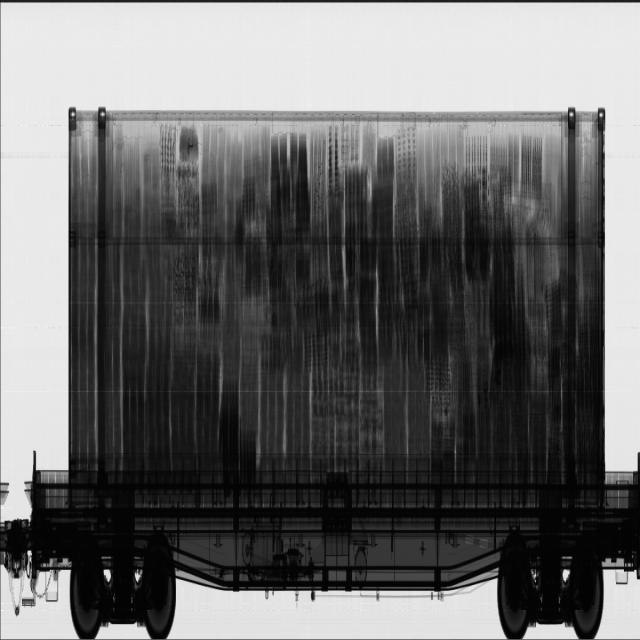textiles: (71, 138, 221, 474)
